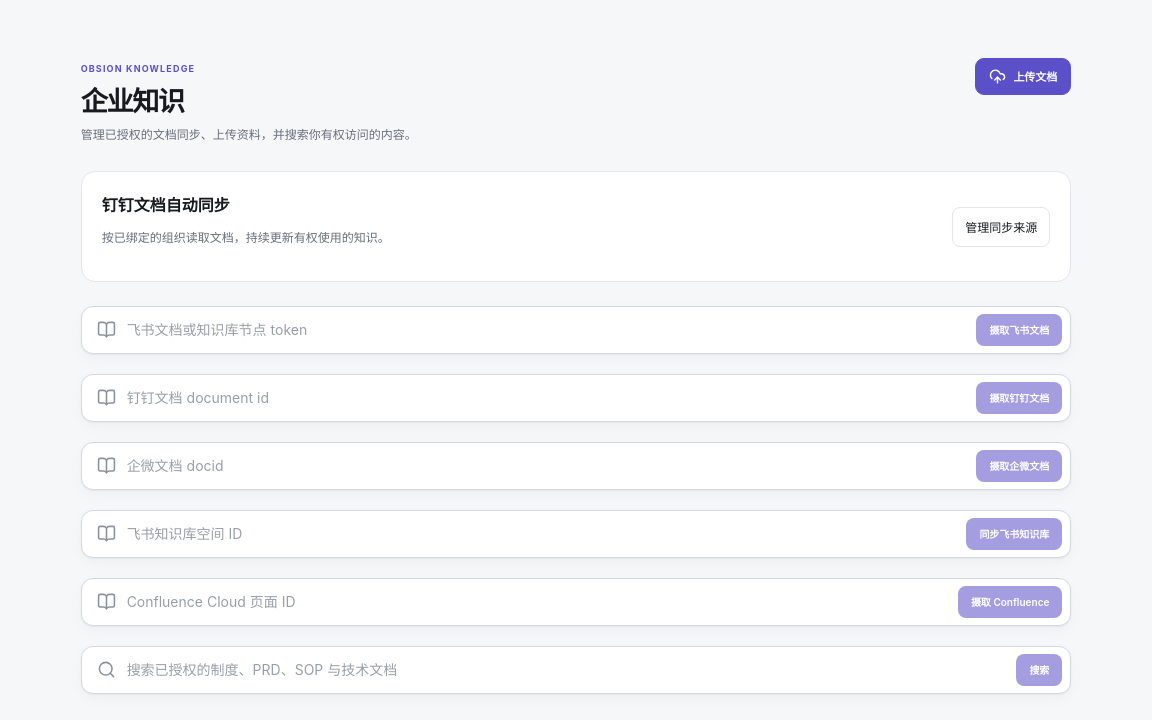
KnowledgeView interactions › synchronizes a Feishu knowledge space with bounded summary counts
Type "  space-1  " into the field with placeholder "飞书知识库空间 ID" at (541,534), box [125,511,957,557]
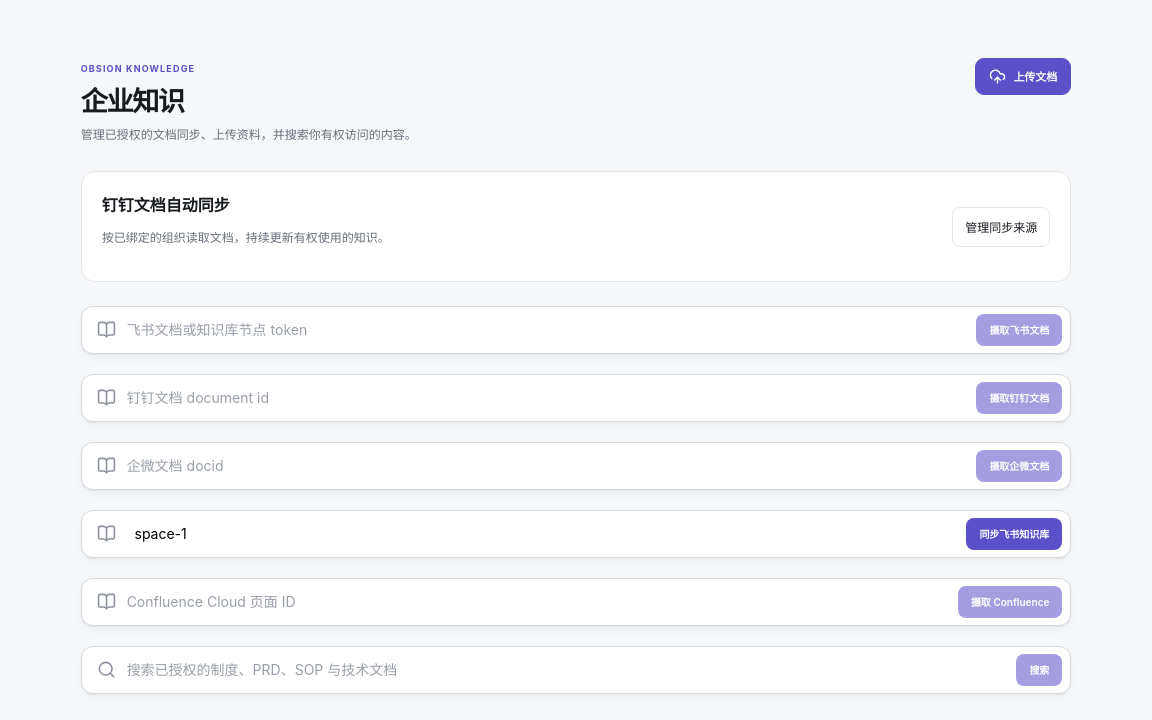
Click the button "同步飞书知识库" at (1014,534), box [966,518,1062,550]
(page scrolled)
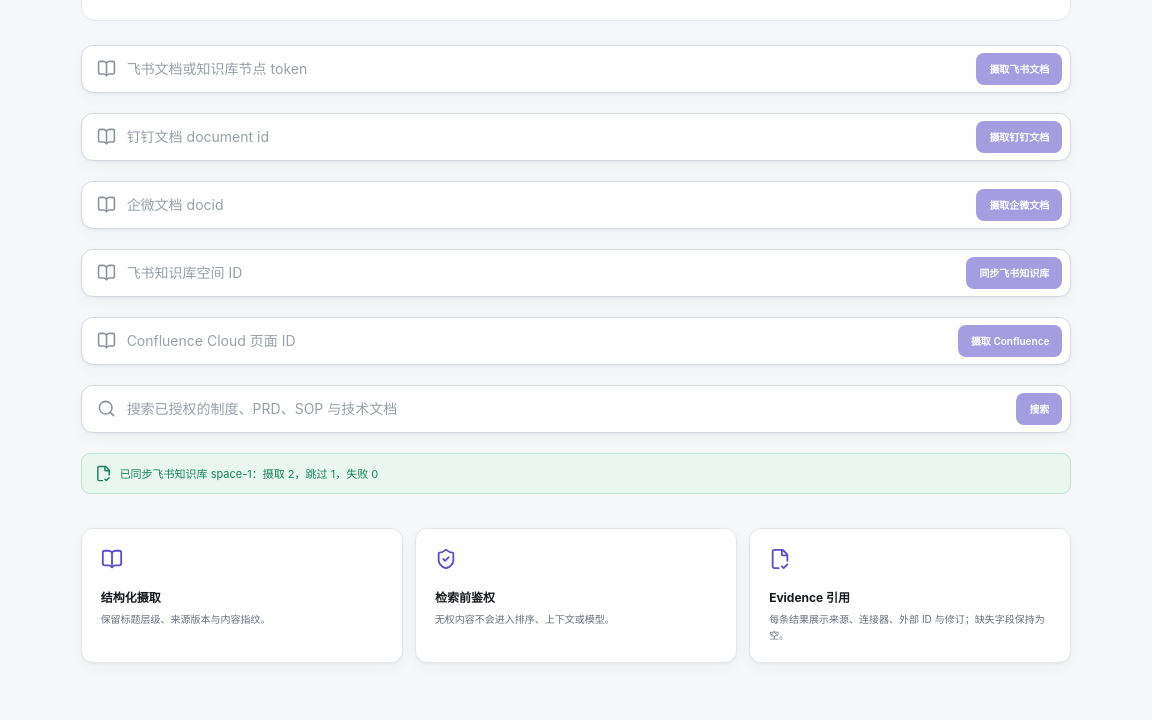
Result: the text "已同步飞书知识库 space-1：摄取 2，跳过 1，失败 0" is shown at [120,465,378,481]
